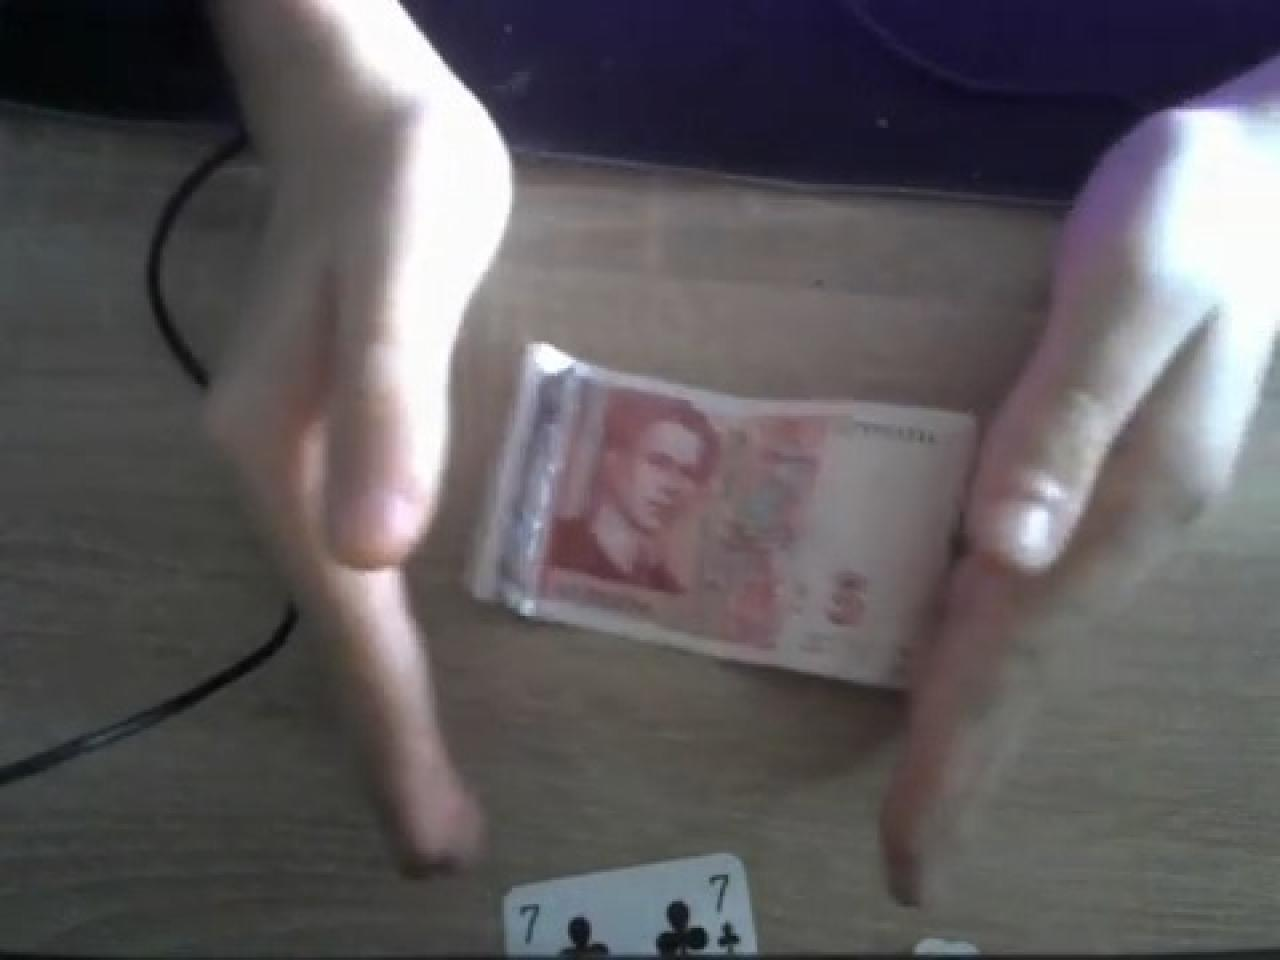5leva: (462, 344, 984, 696)
